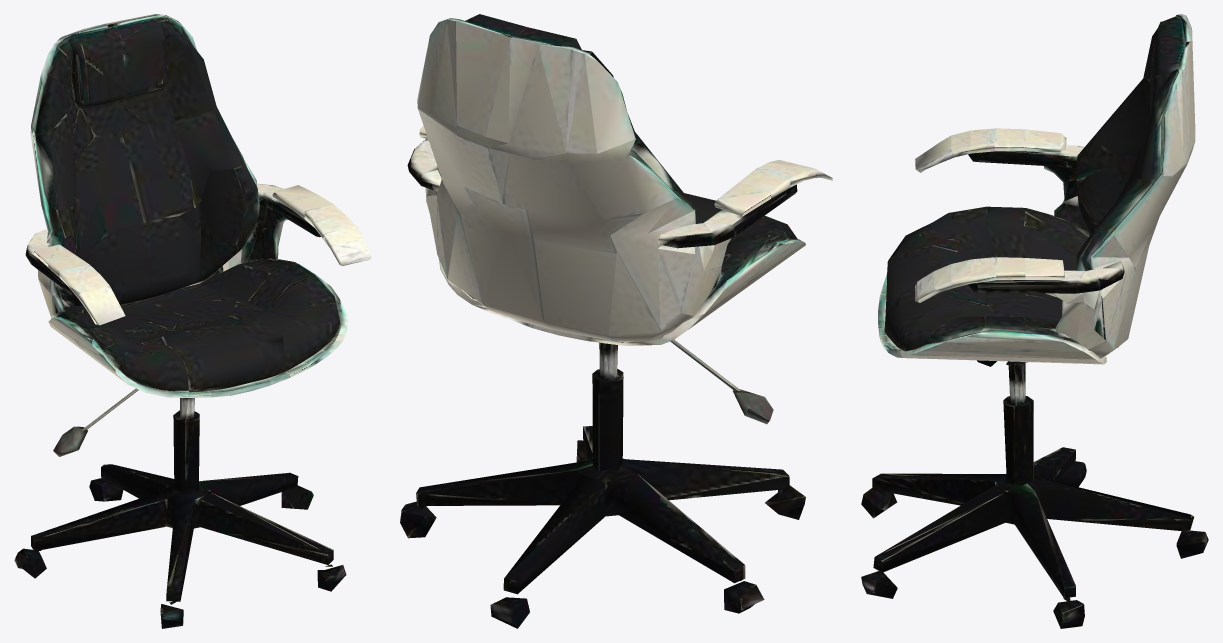
File: chair.lod1.glb
The picture shows the model from 3 angles, left to right: view 1: azimuth 30°, elevation 25°; view 2: azimuth 150°, elevation 25°; view 3: azimuth 270°, elevation 25°; orthographic projection. The views are drawn at different scales.
Size of the model in its own units: 0.6809 by 1.05 by 0.6419.
1 material, 1 textured.
